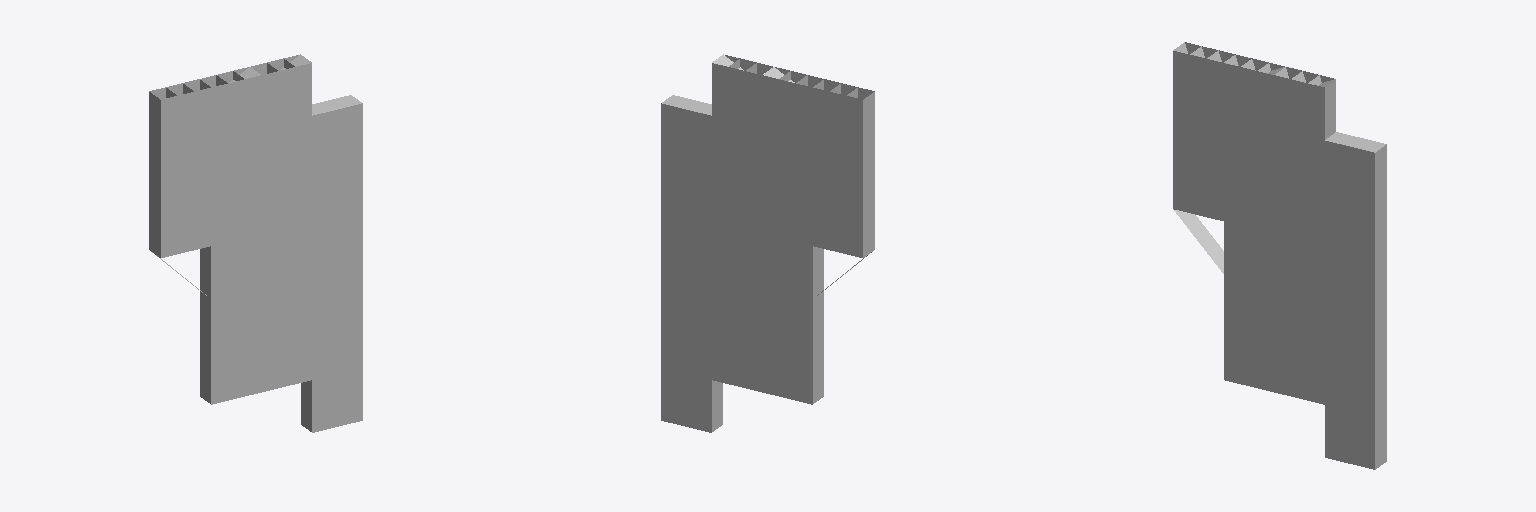
Rendered from 3d_Moonglade - Pool02.wlw.obj.
3 renders of one model, left to right at view 1: azimuth 30°, elevation 25°; view 2: azimuth 150°, elevation 25°; view 3: azimuth 330°, elevation 25°, orthographic.
Size of the model in its own units: 100 by 175 by 10.